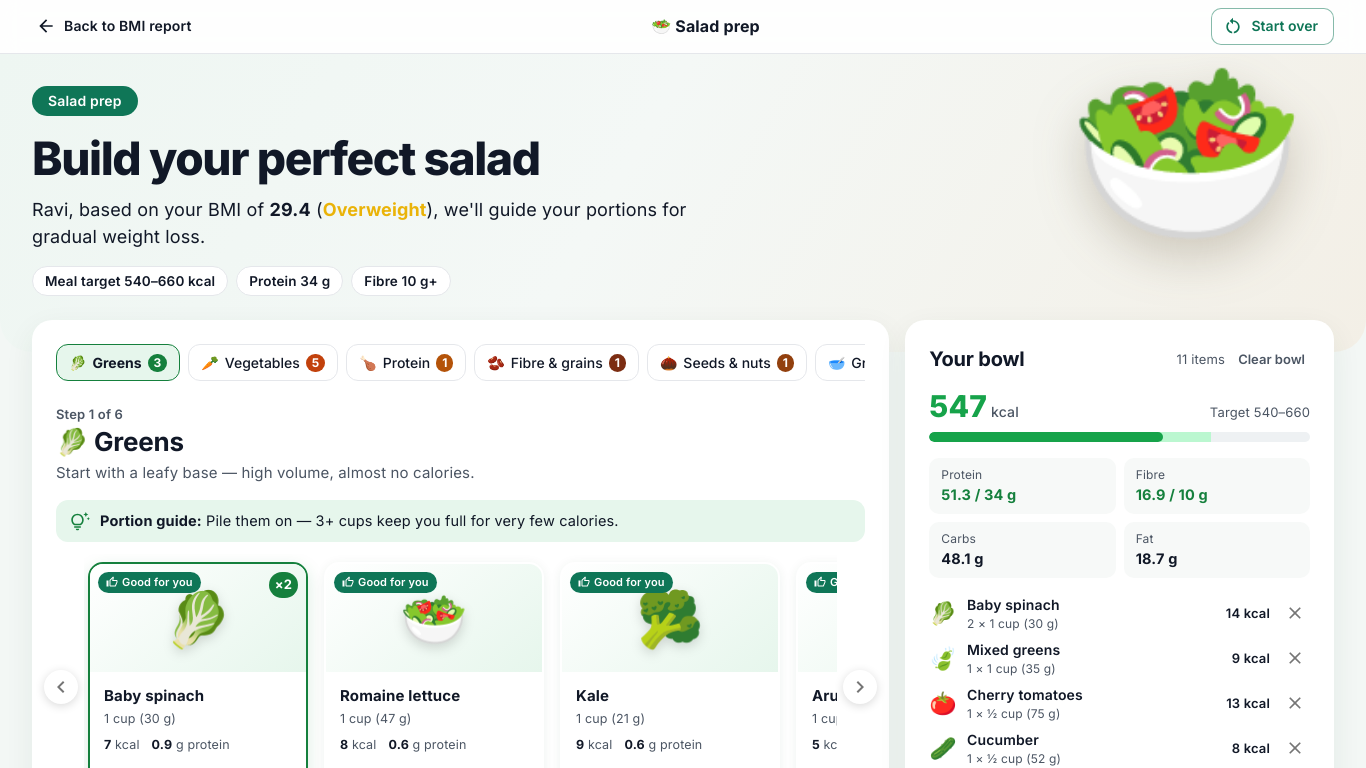
Test case: SaladBuilder › personalises targets and portion guidance from the stored BMI result
The image size is (1366, 768).
Expected: the text "Ravi, based on your BMI of" is shown, [32,196,752,250]
Expected: the text "29.4" is shown, [270,199,311,220]
Click the tab "🌰 Seeds & nuts 1". click: (727, 363)
box: [647,344,807,381]
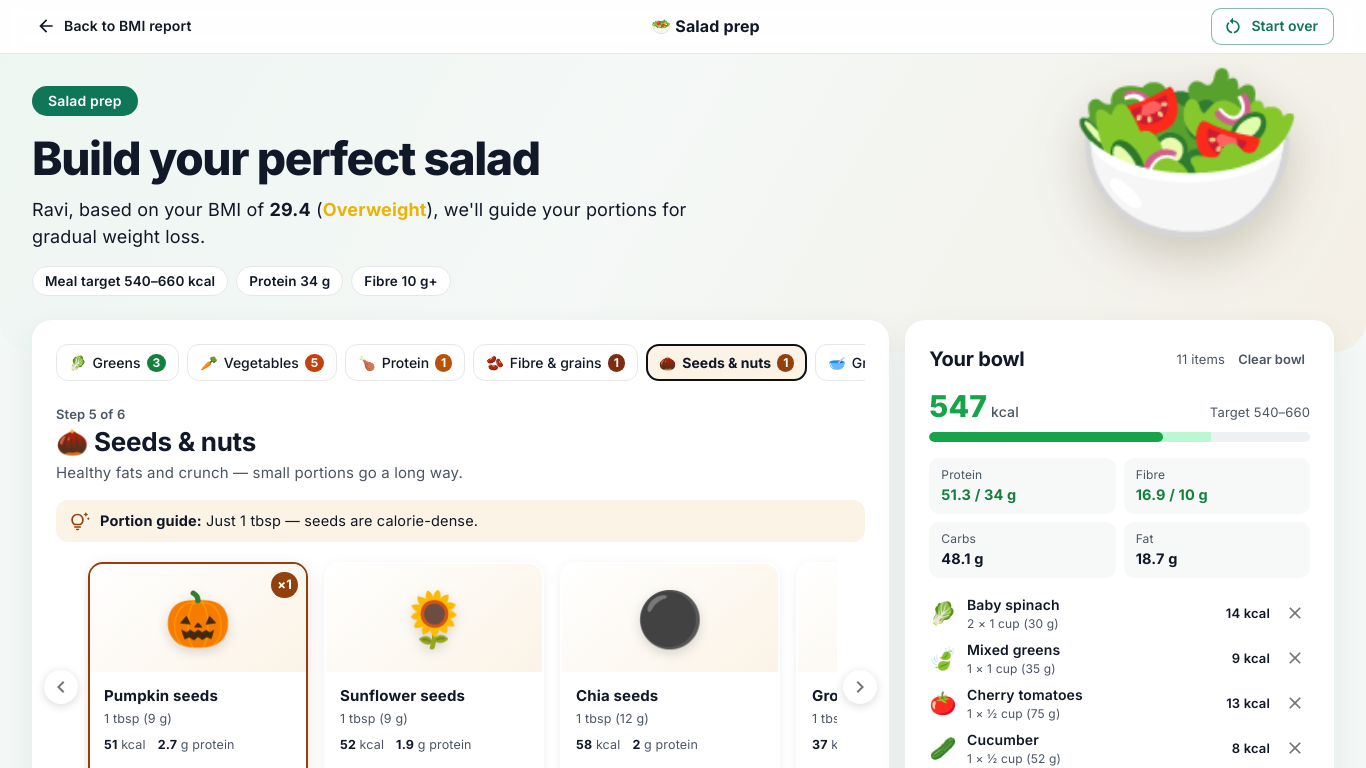
Now the element with test id "portion-guide" shows "Just 1 tbsp", box [206,512,478,529]
